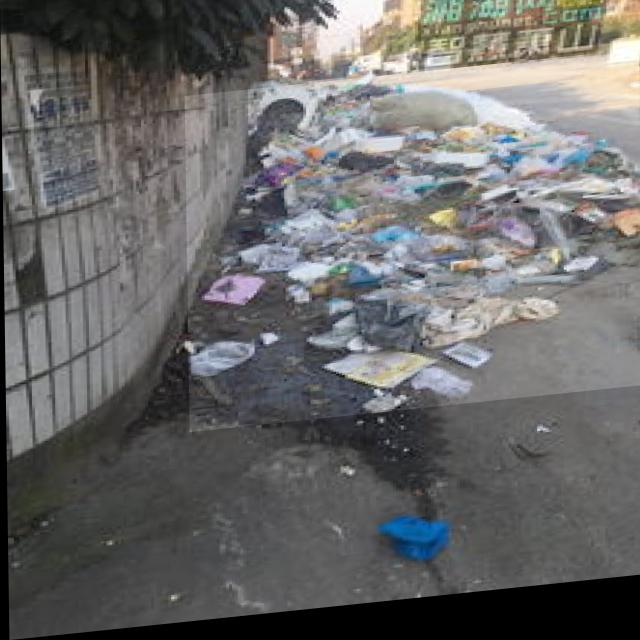garbage: (184, 63, 640, 436)
